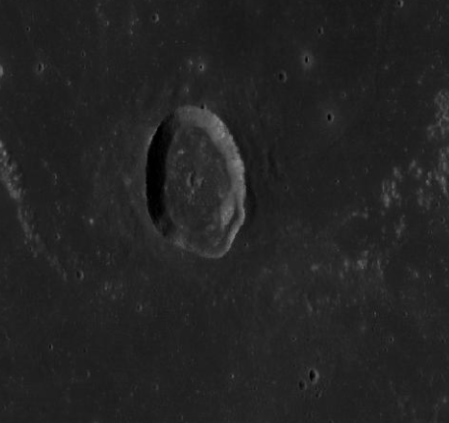crater: (110, 94, 276, 324), (303, 333, 383, 403), (310, 100, 340, 146)
